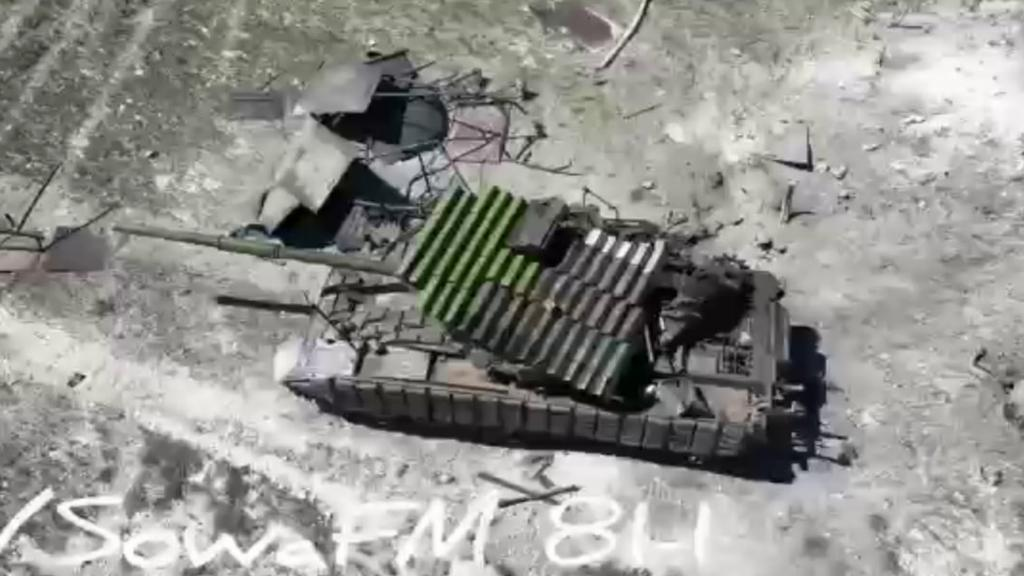TANK: (107, 177, 793, 493)
